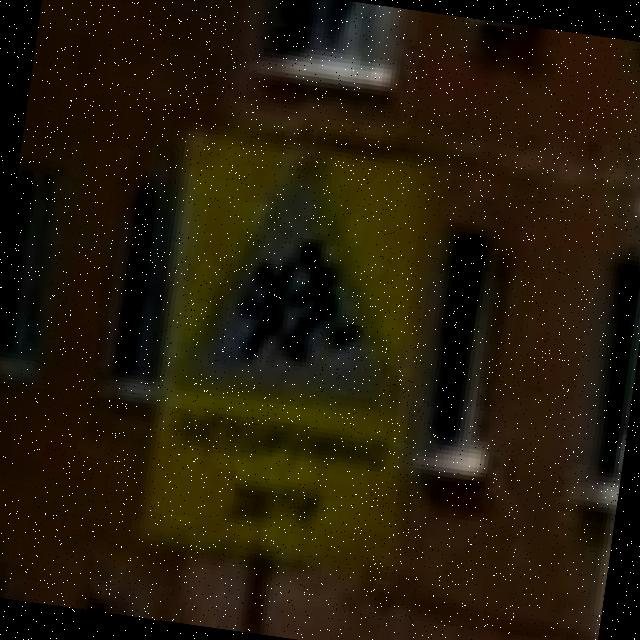Dzieci: (172, 146, 434, 416)
